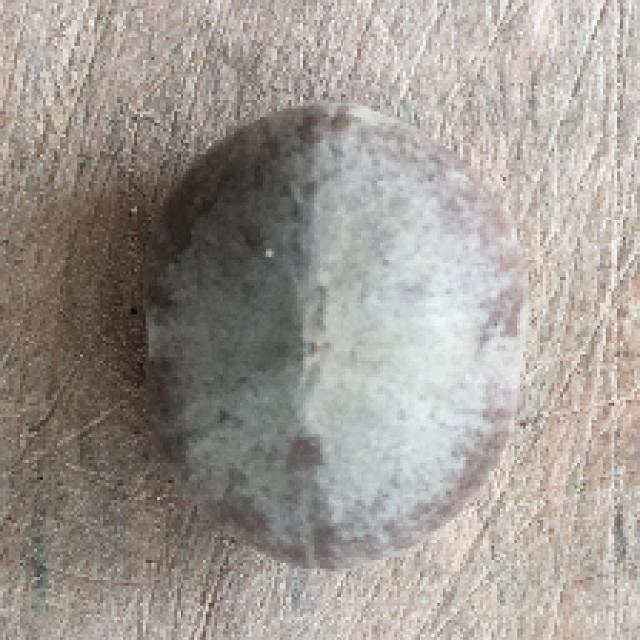damagedHazelnut: (132, 106, 517, 561)
